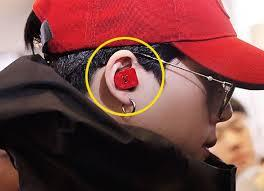earphone: (115, 66, 143, 96)
